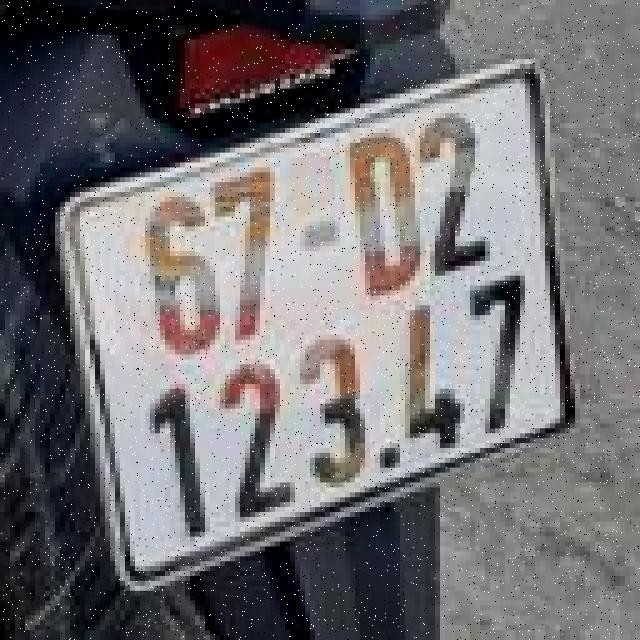1: (138, 372, 212, 539)
2: (212, 364, 298, 522), (422, 108, 498, 276)
3: (298, 335, 372, 487)
4: (402, 298, 472, 460)
6: (145, 192, 225, 359)
7: (462, 273, 538, 436), (218, 172, 282, 345)
D: (348, 125, 428, 298)
